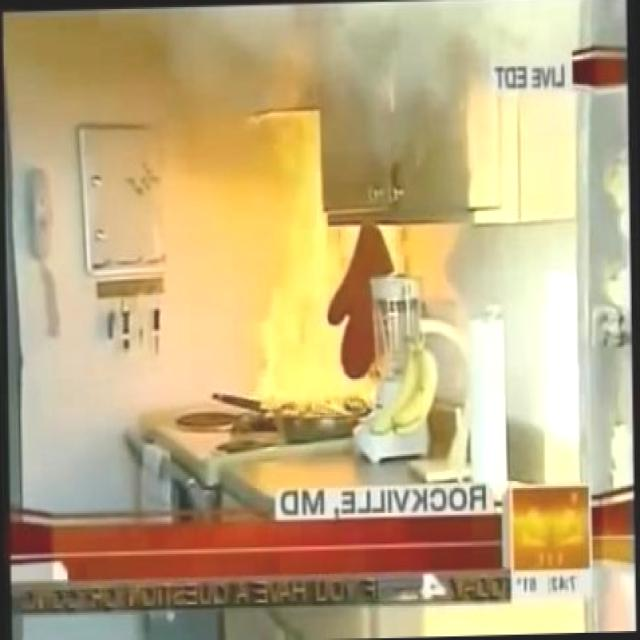fire: (214, 61, 431, 438)
